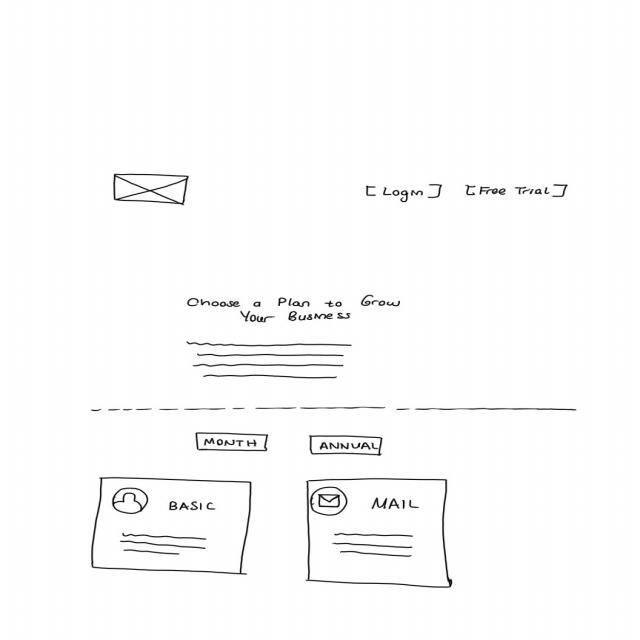button: (308, 434, 386, 458), (193, 432, 271, 453)
container: (304, 477, 457, 591), (91, 476, 255, 579)
icon-button: (311, 487, 351, 518)
image: (112, 173, 191, 208), (111, 488, 151, 516)
label: (186, 294, 407, 325), (370, 497, 423, 513), (169, 502, 219, 514)
link: (465, 183, 570, 200), (363, 183, 445, 203)
textbox: (186, 340, 355, 384), (331, 531, 418, 561), (120, 531, 210, 558)
